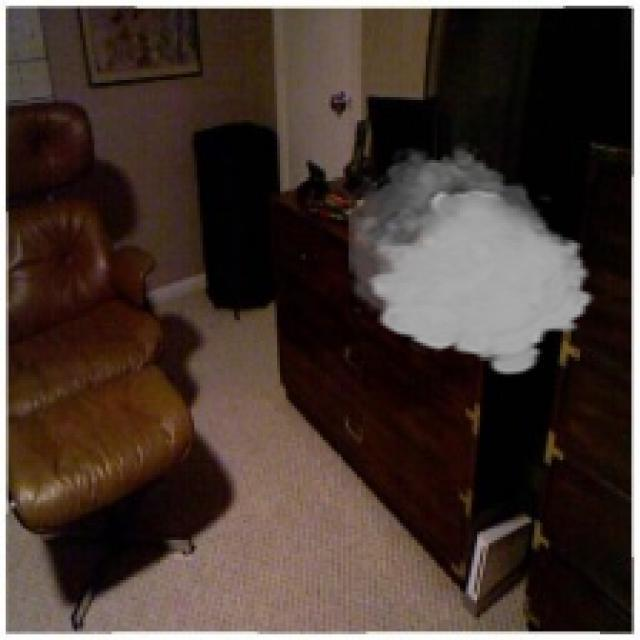Smoke: (348, 140, 598, 377)
